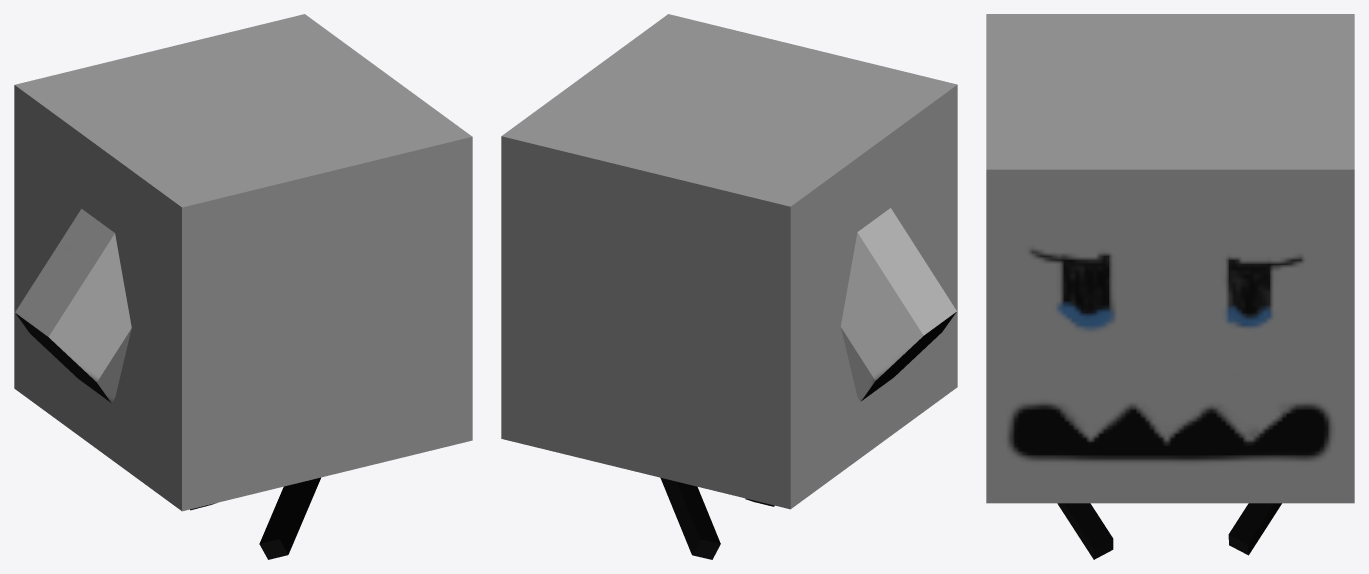
Rendered from carryRobot.fbx.
3 renders of one model, left to right at view 1: azimuth 30°, elevation 25°; view 2: azimuth 150°, elevation 25°; view 3: azimuth 270°, elevation 25°, orthographic. The views are drawn at different scales.
Parts seen in each view (by area): view 1: Cube, Cylinder; view 2: Cube, Cylinder, Cylinder.001; view 3: Cube, Cylinder, Cylinder.001.
Boxes of the visible parts, bbox=[...] form: Cube: bbox=[14, 14, 472, 511]; Cylinder: bbox=[15, 208, 320, 559]; Cube: bbox=[501, 14, 957, 509]; Cylinder: bbox=[745, 208, 956, 506]; Cylinder.001: bbox=[660, 477, 720, 559]; Cube: bbox=[986, 14, 1354, 503]; Cylinder: bbox=[1057, 503, 1113, 559]; Cylinder.001: bbox=[1228, 503, 1281, 555].
Size of the model in its own units: 246 by 277 by 200.
3 materials, 3 textured.
